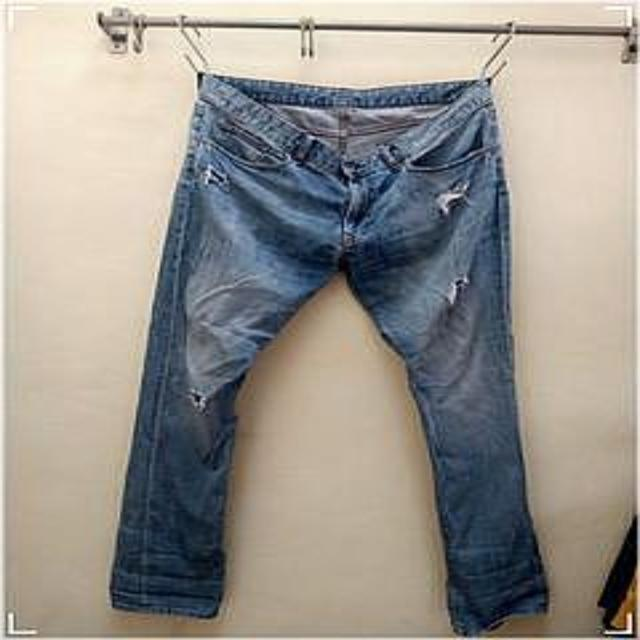TROUSER: (100, 68, 598, 636)
